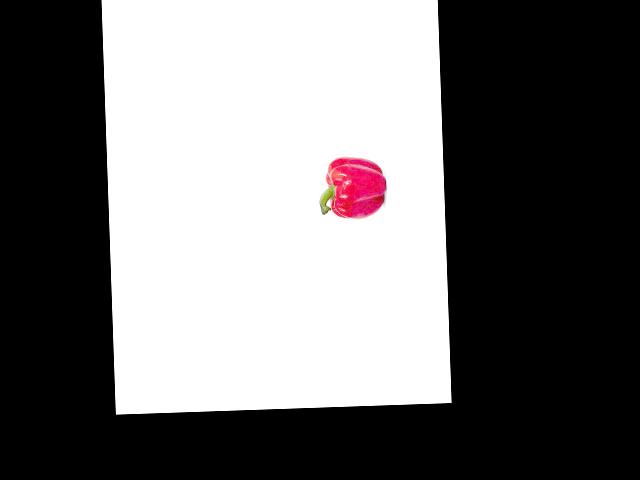bell_pepper: (316, 151, 386, 221)
